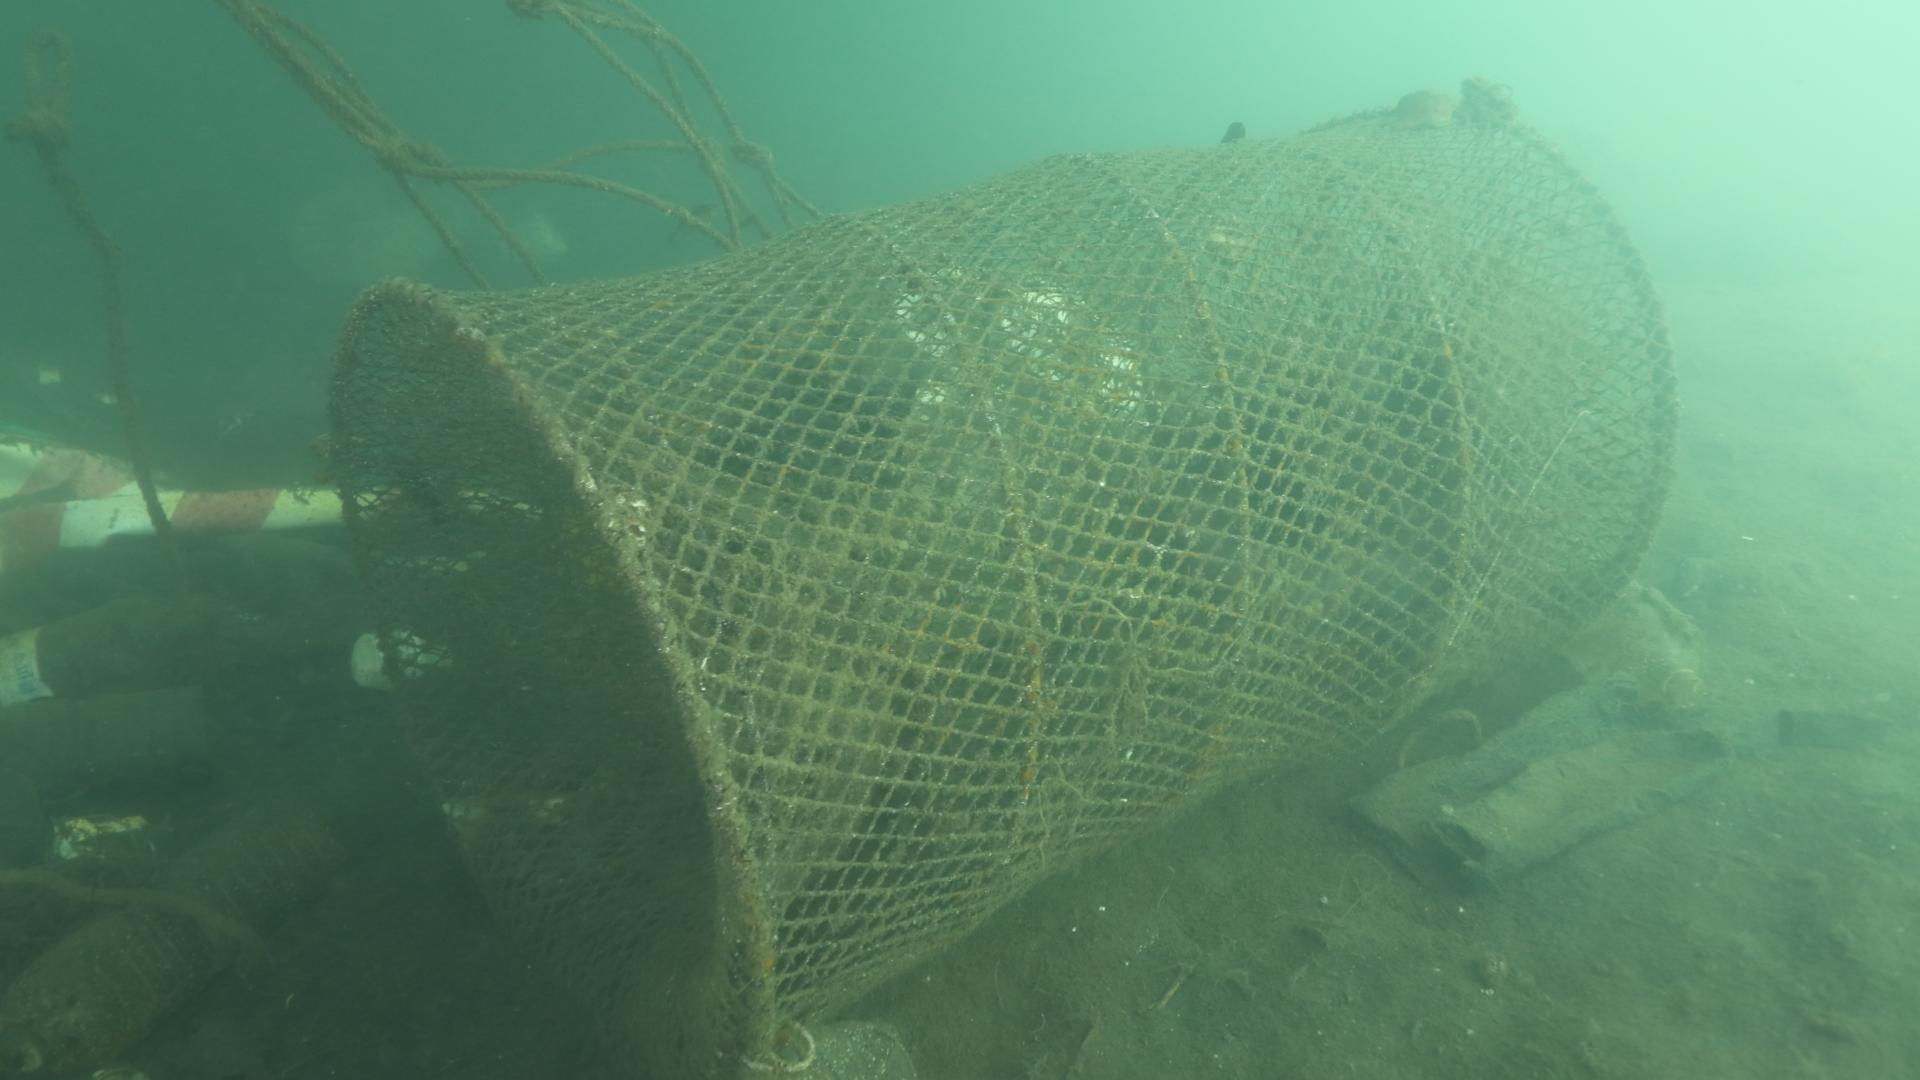bundle of ropes: (222, 0, 824, 285), (9, 26, 185, 549)
spring fish trap: (324, 91, 1687, 1080)
